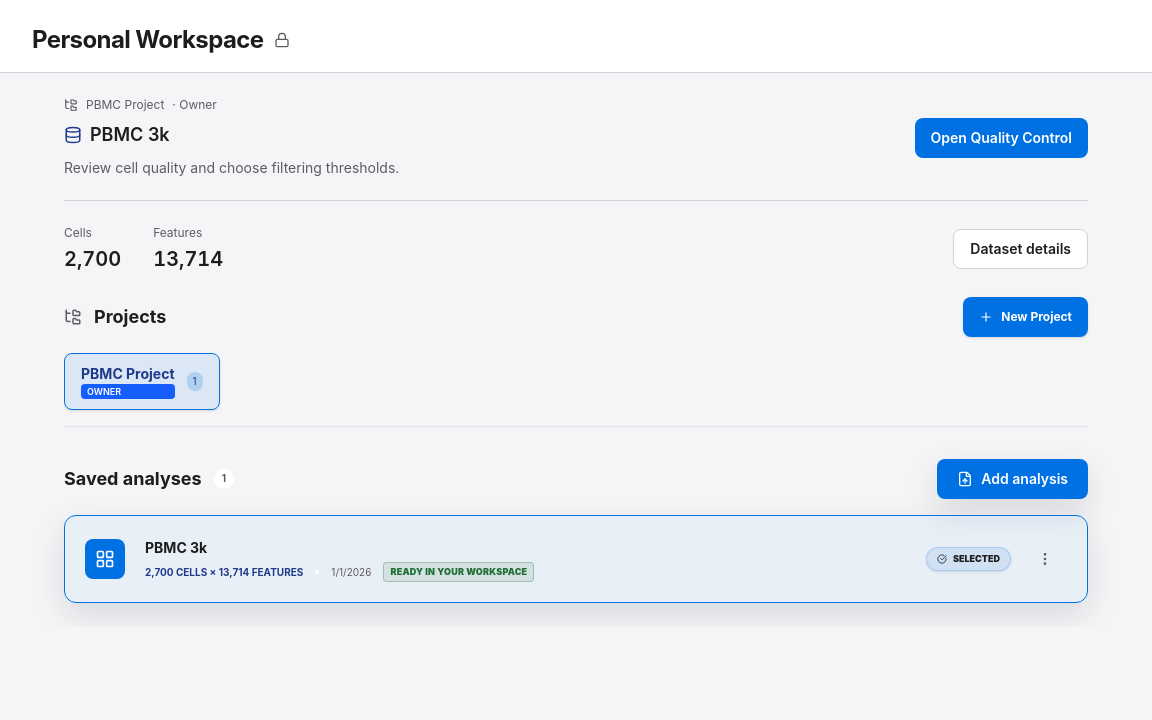
Workspace backend-backed project/object UI › keeps analysis actions open when the pointer leaves the row and closes with Escape
This screenshot has width=1152, height=720.
Click the button named "Object options".
click(1045, 559)  # box x1=1023 y1=537 x2=1067 y2=581
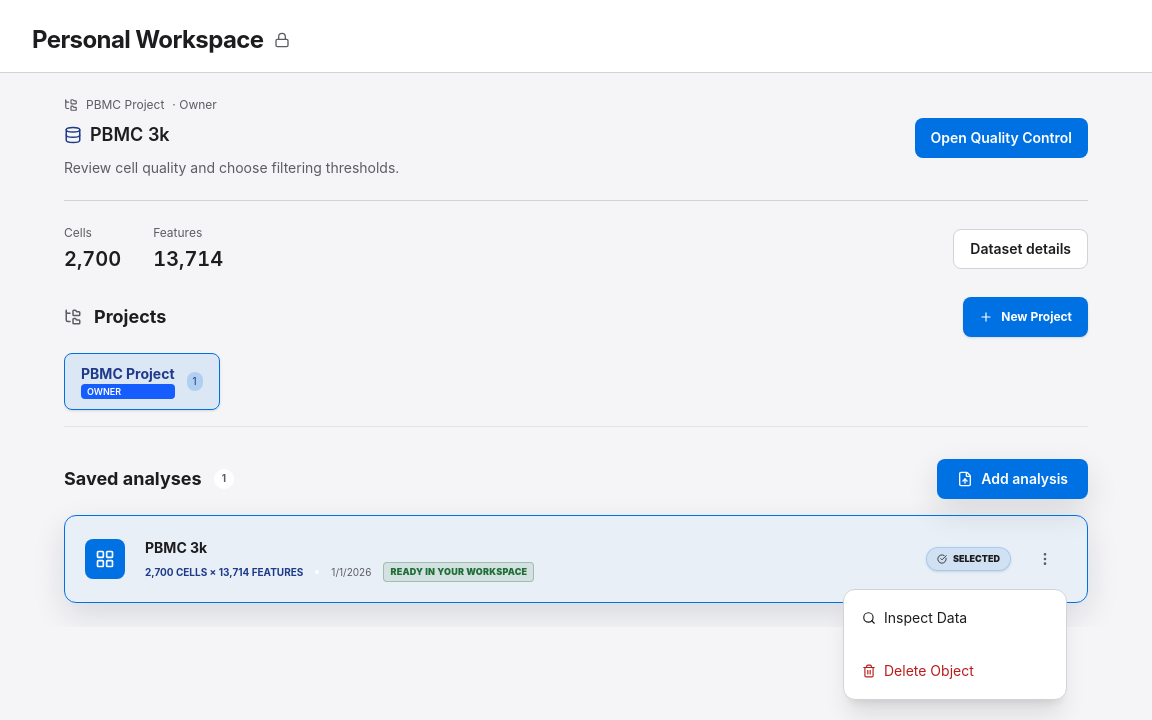
Move the pointer off the element named "Saved analysis PBMC 3k", box x1=64 y1=515 x2=1088 y2=603
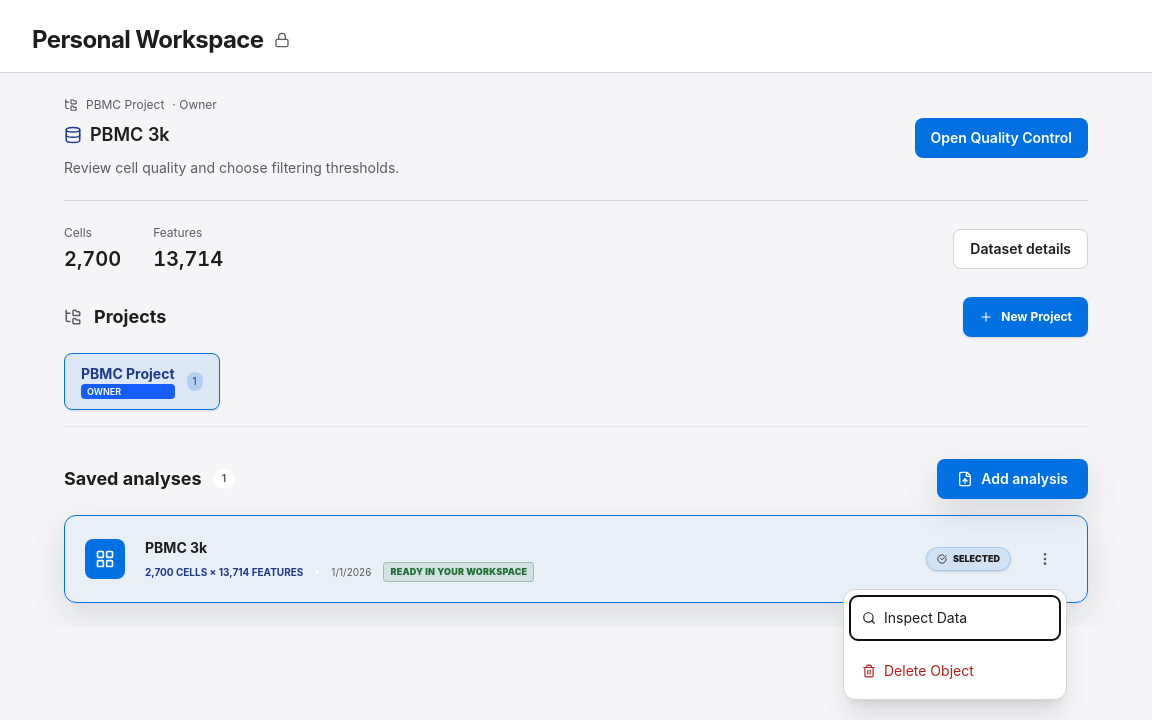
Now the button "Inspect Data" is shown
Press Escape in the button "Inspect Data", box x1=850 y1=596 x2=1060 y2=640
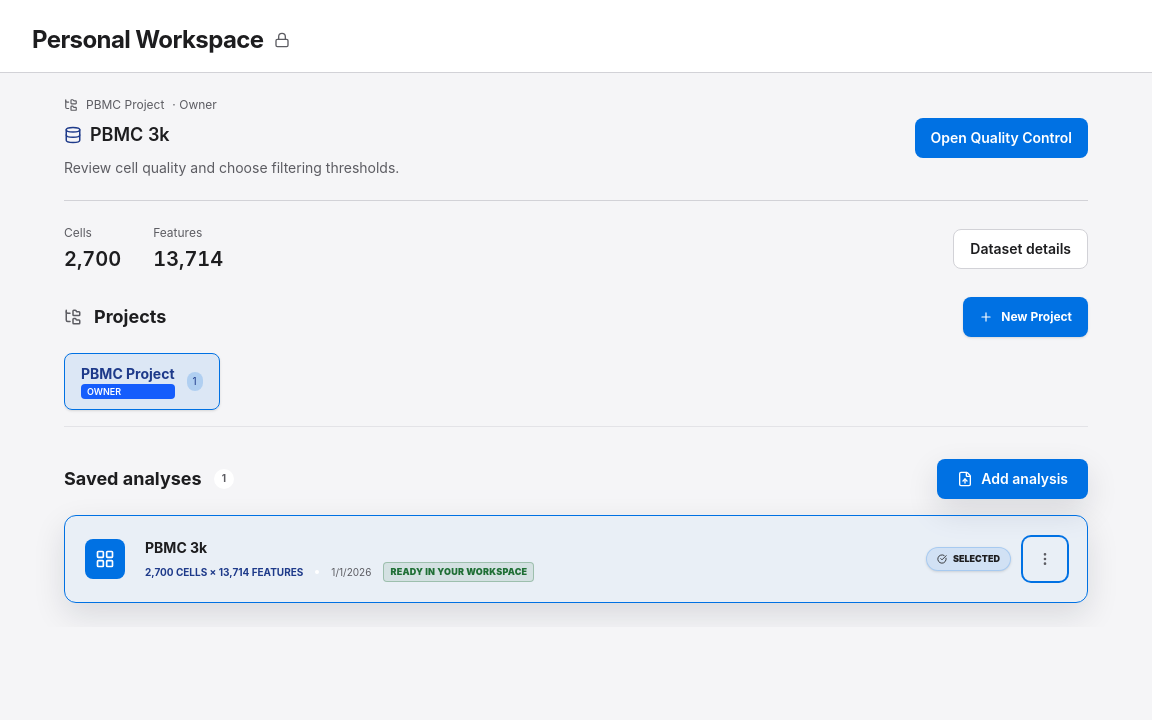
Now the button "Inspect Data" is gone
